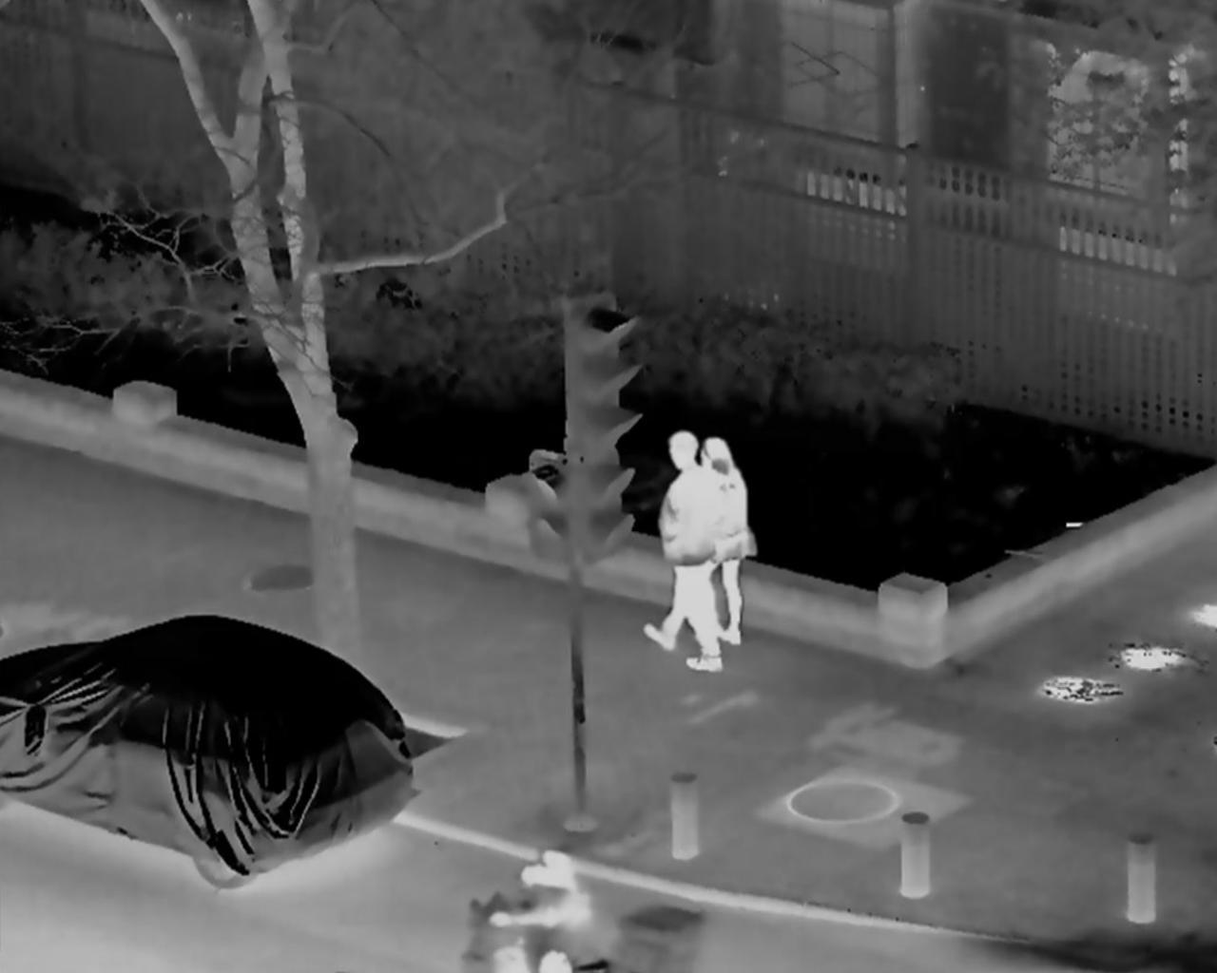person: (646, 432, 723, 671), (686, 436, 760, 648), (493, 854, 607, 973)
